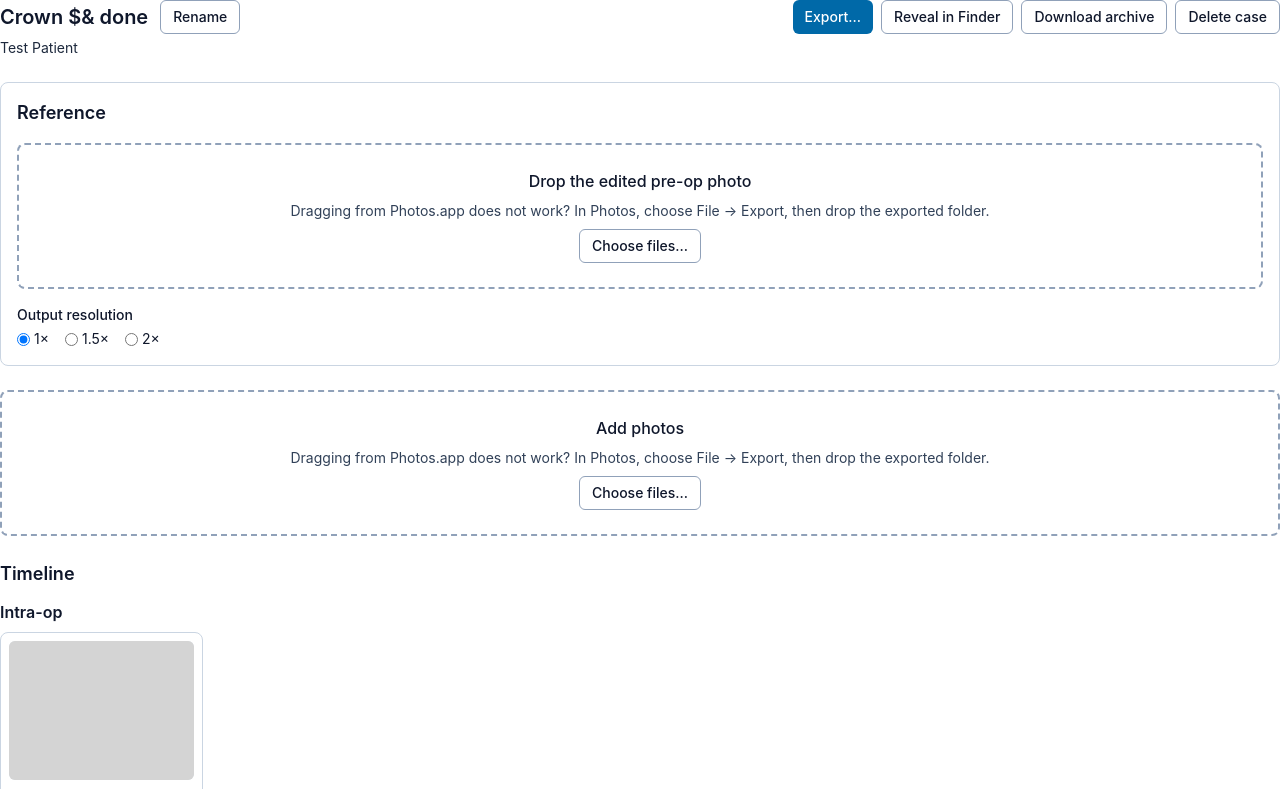
it: CaseScreen › the delete dialog names the case as typed
Click the button "Delete case" at {"x": 1228, "y": 17}, box x1=1175 y1=0 x2=1279 y2=34
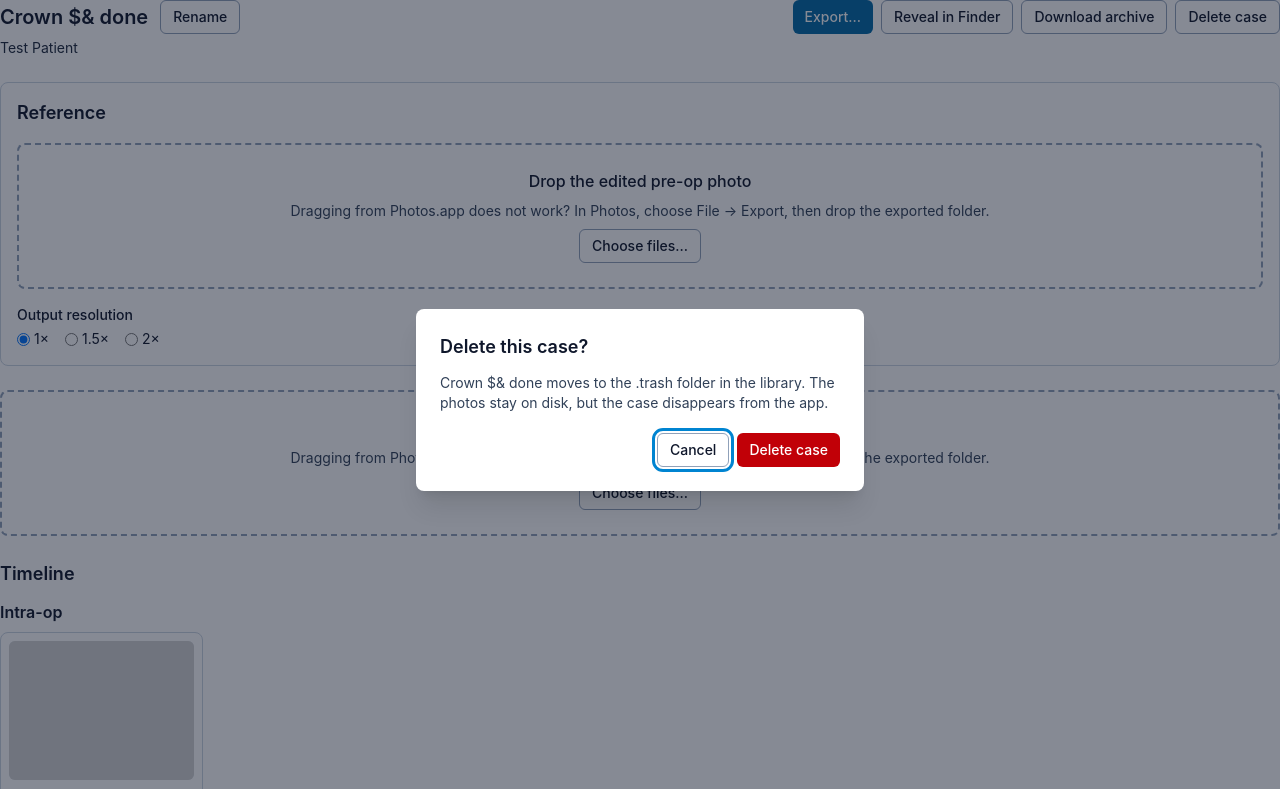
Now the dialog shows "Crown $& done moves to the .trash", box x1=440 y1=374 x2=835 y2=411
